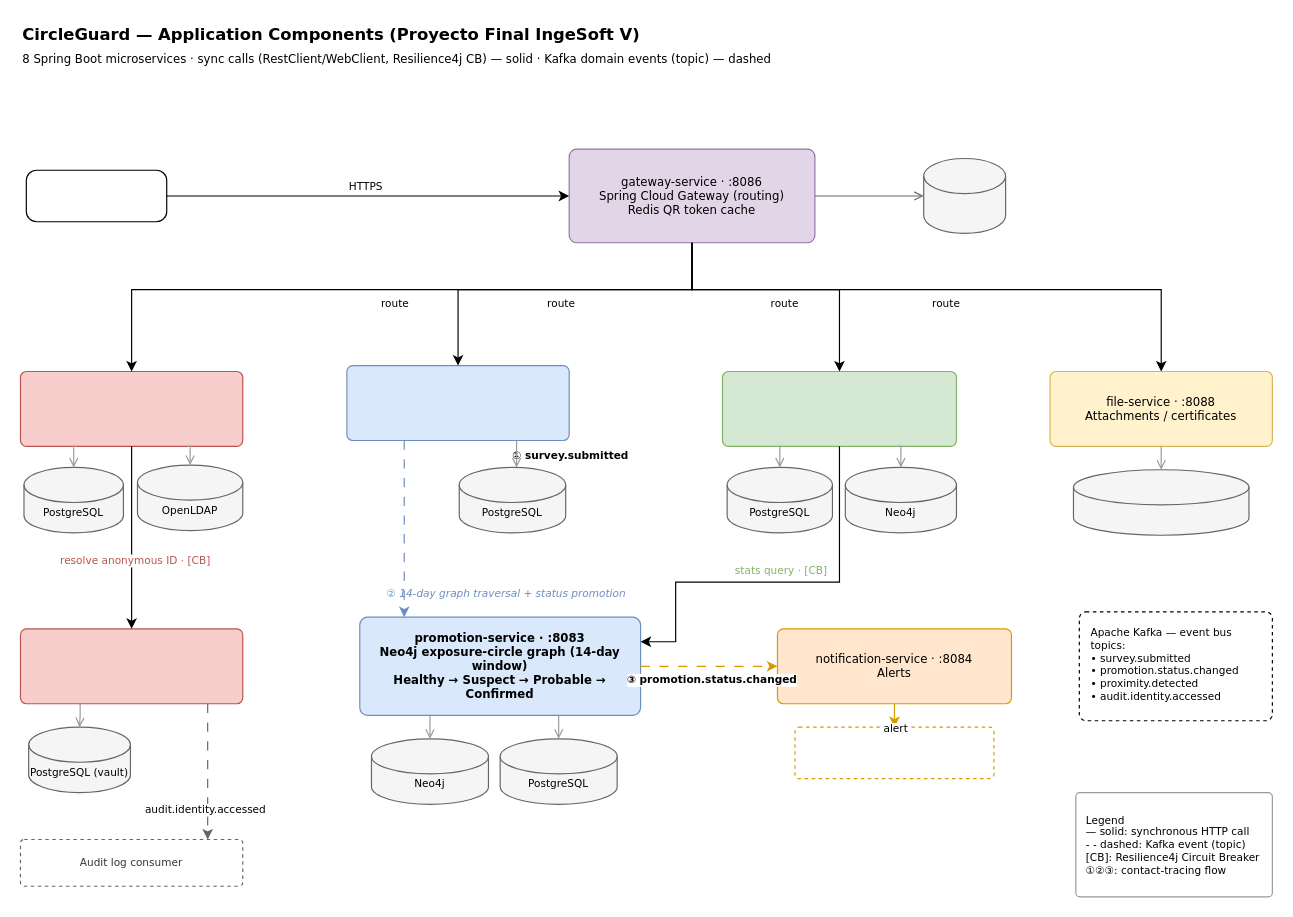
This 1293x917 diagram has some shape labels left out. Each missing label, with the centre of its shape:
auth-service · :8081 Login · JWT issue · LDAP bind: the point at 131,408
Client (web / mobile): the point at 96,195
dashboard-service · :8087 Stats · K-anonymity filter: the point at 838,408
form-service · :8085 Dynamic questionnaires: the point at 457,402
identity-service · :8082 Encrypted identity vault (anonymized IDs): the point at 131,666
Redis QR cache: the point at 964,195
S3-compatible storage: the point at 1160,502
SMTP / FCM (external): the point at 894,752
